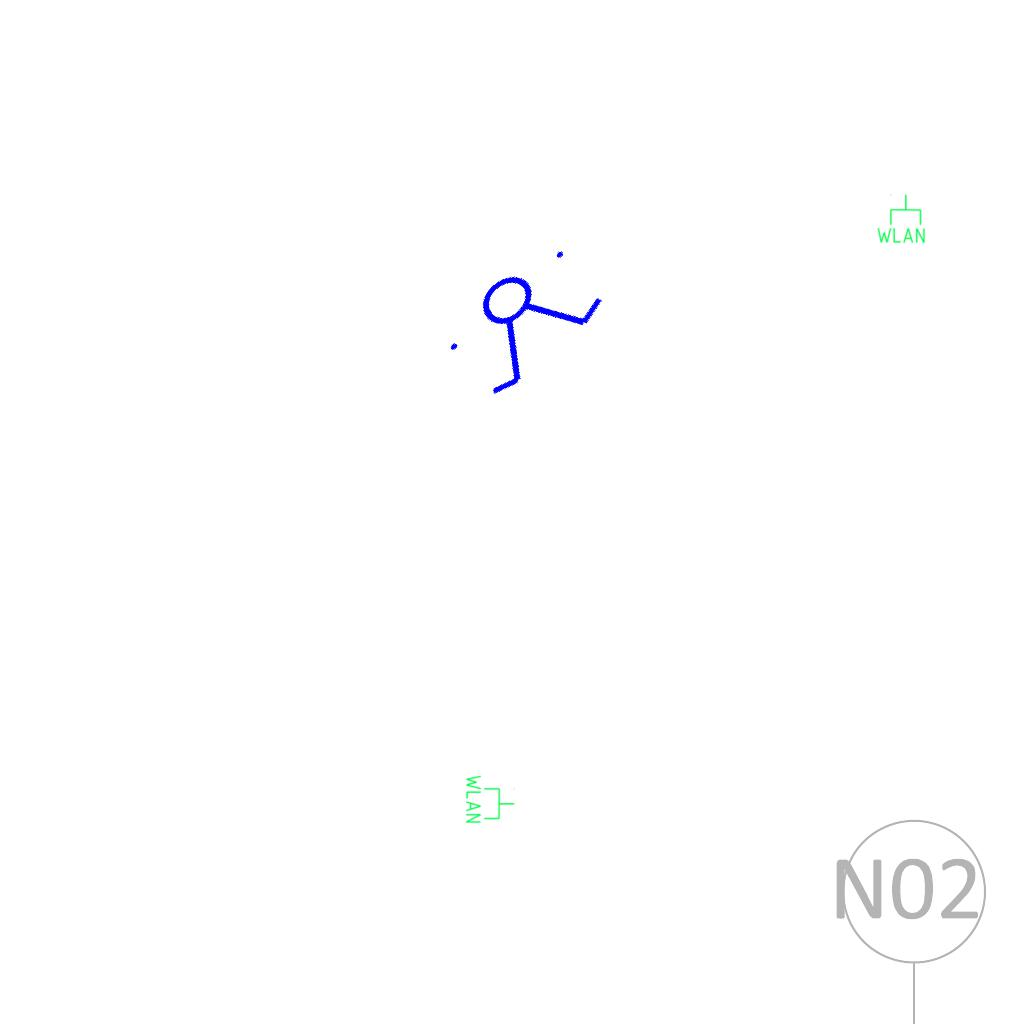Serienschalter: (430, 227, 620, 411)
WLAN: (464, 773, 516, 825), (875, 193, 927, 245)
